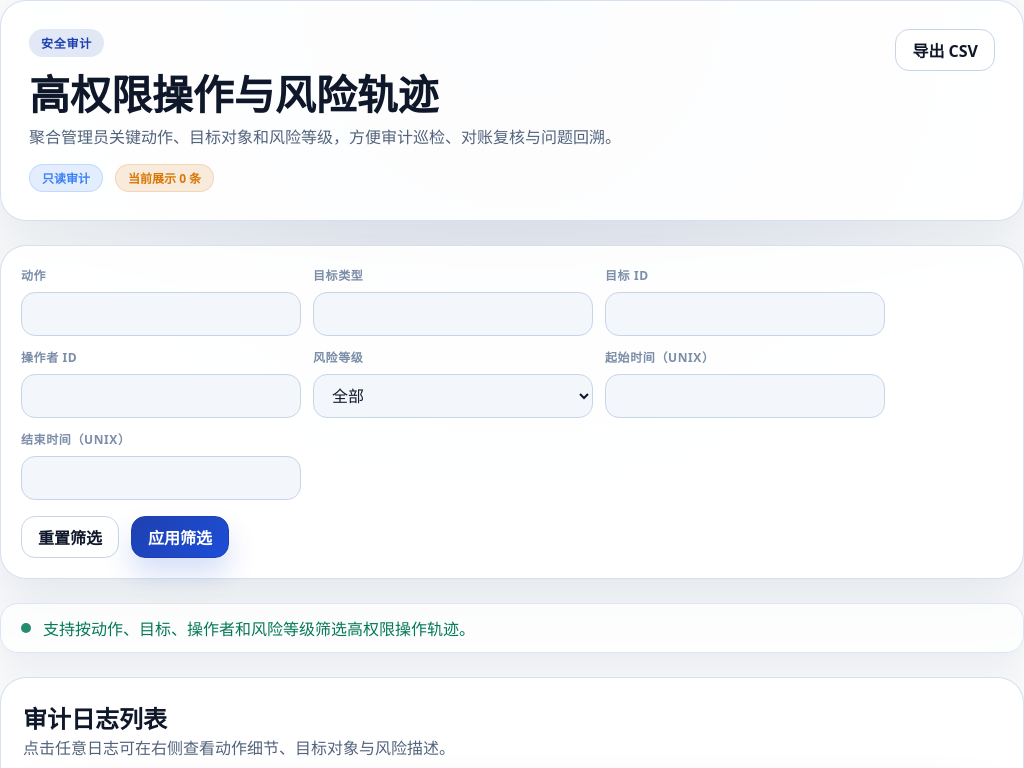
Test: AuditsPage › exports current audit filters as csv
This screenshot has width=1024, height=768.
Type "admin.order.reconcile" into the field labelled "动作" at (161, 314), box [21,292,301,336]
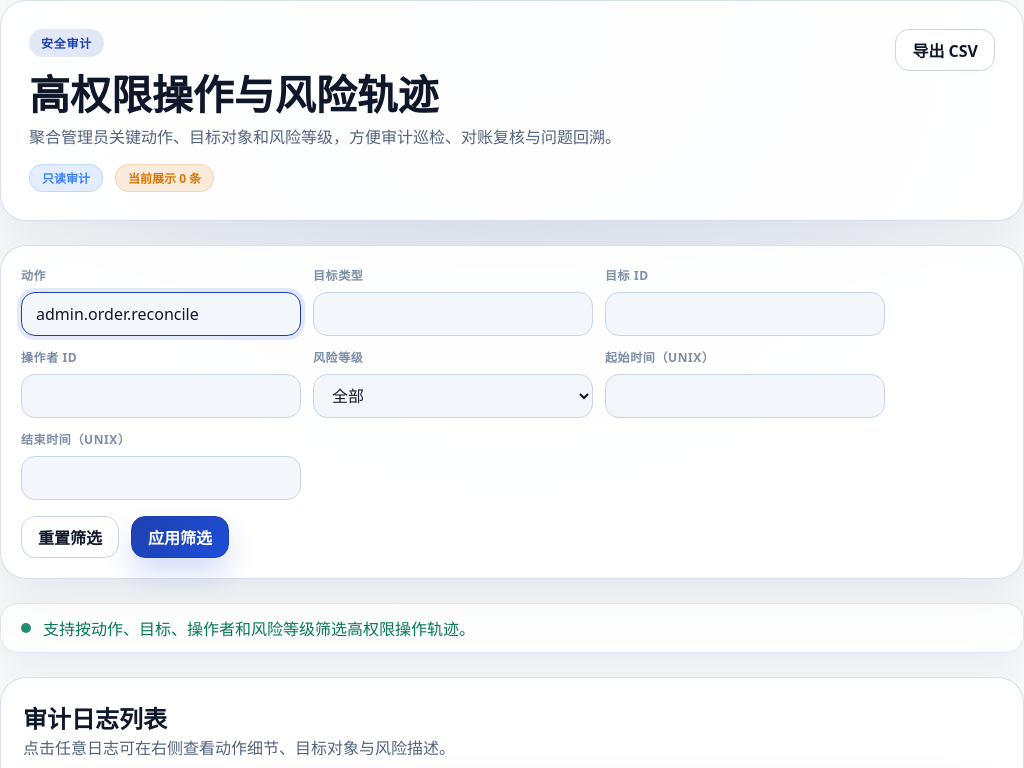
Click the button "应用筛选" at (180, 537), box [131,516,229,558]
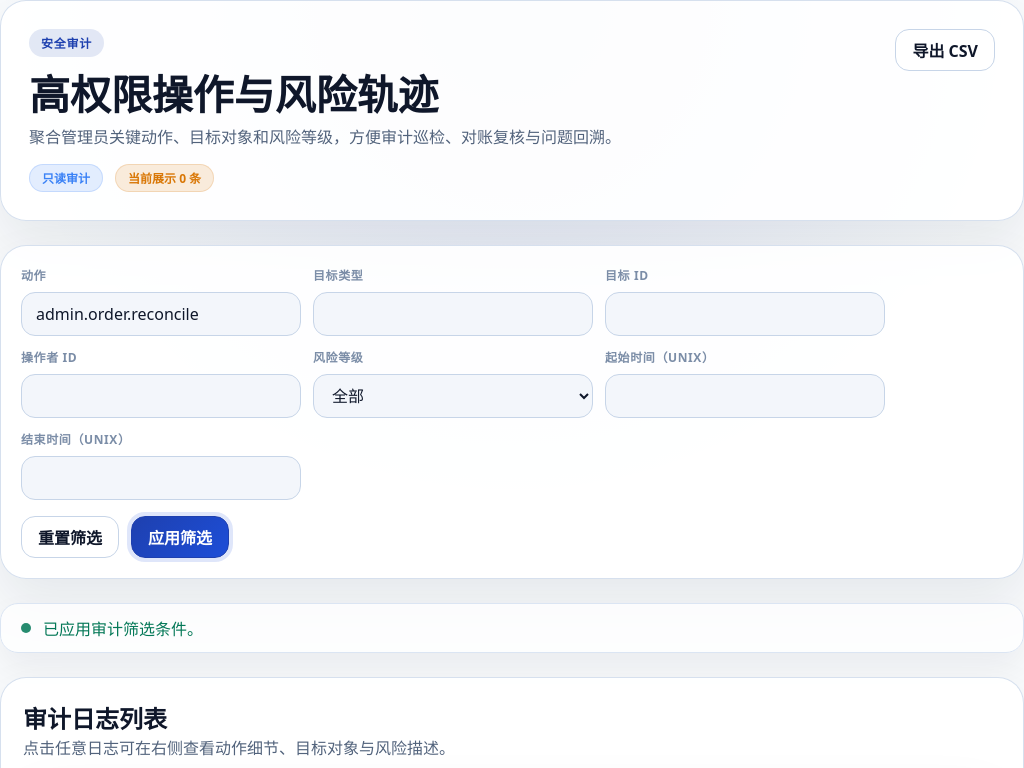
Click the button "导出 CSV" at (945, 50), box [895,29,995,71]
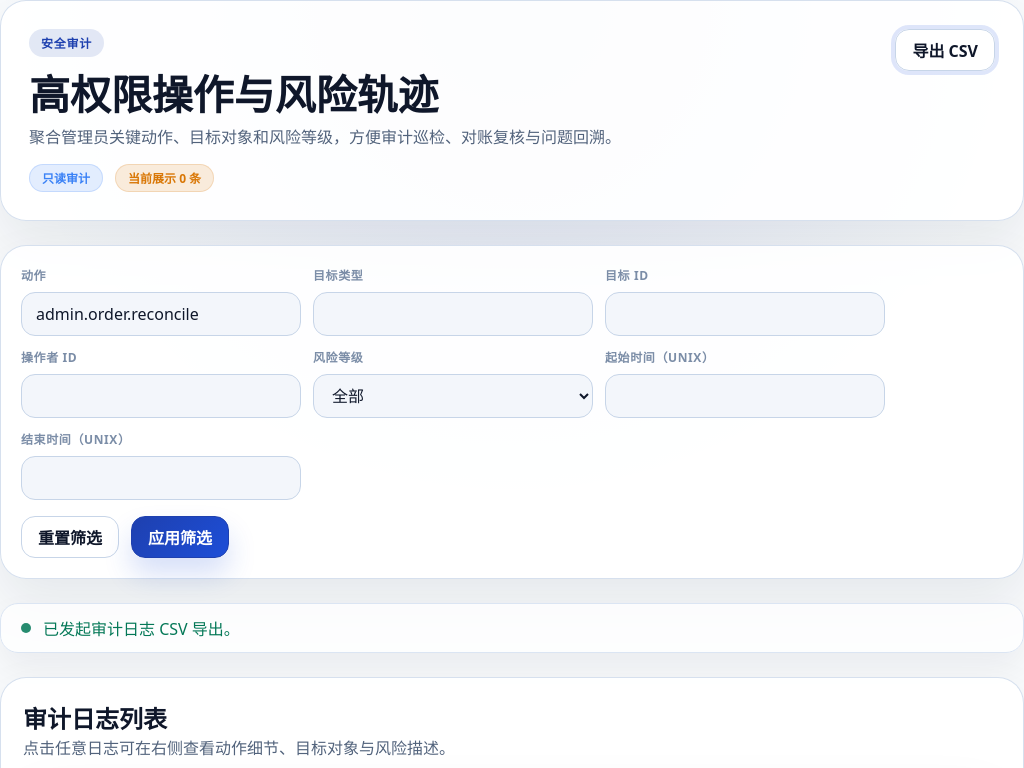
expect the text "已发起审计日志 CSV 导出。" is shown: met, box [0,603,1023,653]
